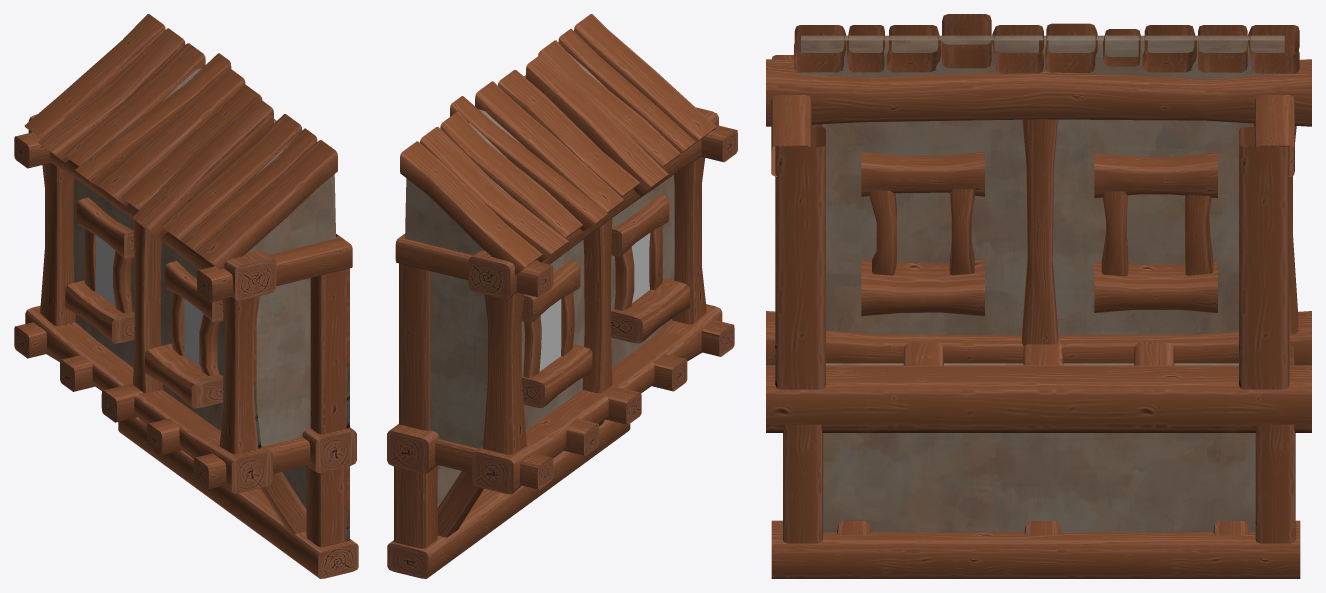
Rendered from SM_Cabin.fbx.
3 views of the same model, side by side, from view 1: azimuth 30°, elevation 25°; view 2: azimuth 150°, elevation 25°; view 3: azimuth 270°, elevation 25° (orthographic). The views are drawn at different scales.
Visible parts, largest first — view 1: SM_Cabin_LOD0; view 2: SM_Cabin_LOD0; view 3: SM_Cabin_LOD0.
Part boxes in pixels (x1,y1,x2,y2): SM_Cabin_LOD0: [14, 14, 358, 578]; SM_Cabin_LOD0: [387, 14, 737, 578]; SM_Cabin_LOD0: [766, 14, 1311, 578].
Size of the model in its own units: 266 by 648 by 726.
Materials: 3 (2 with a texture image).
